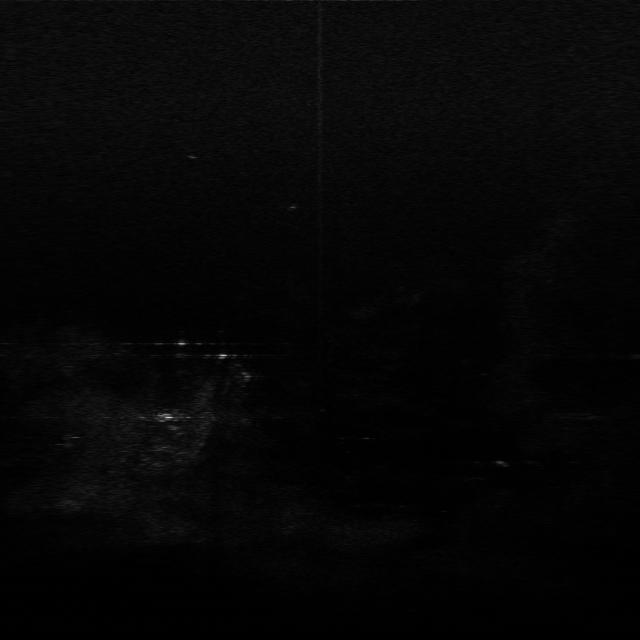rov: (153, 407, 176, 428)
